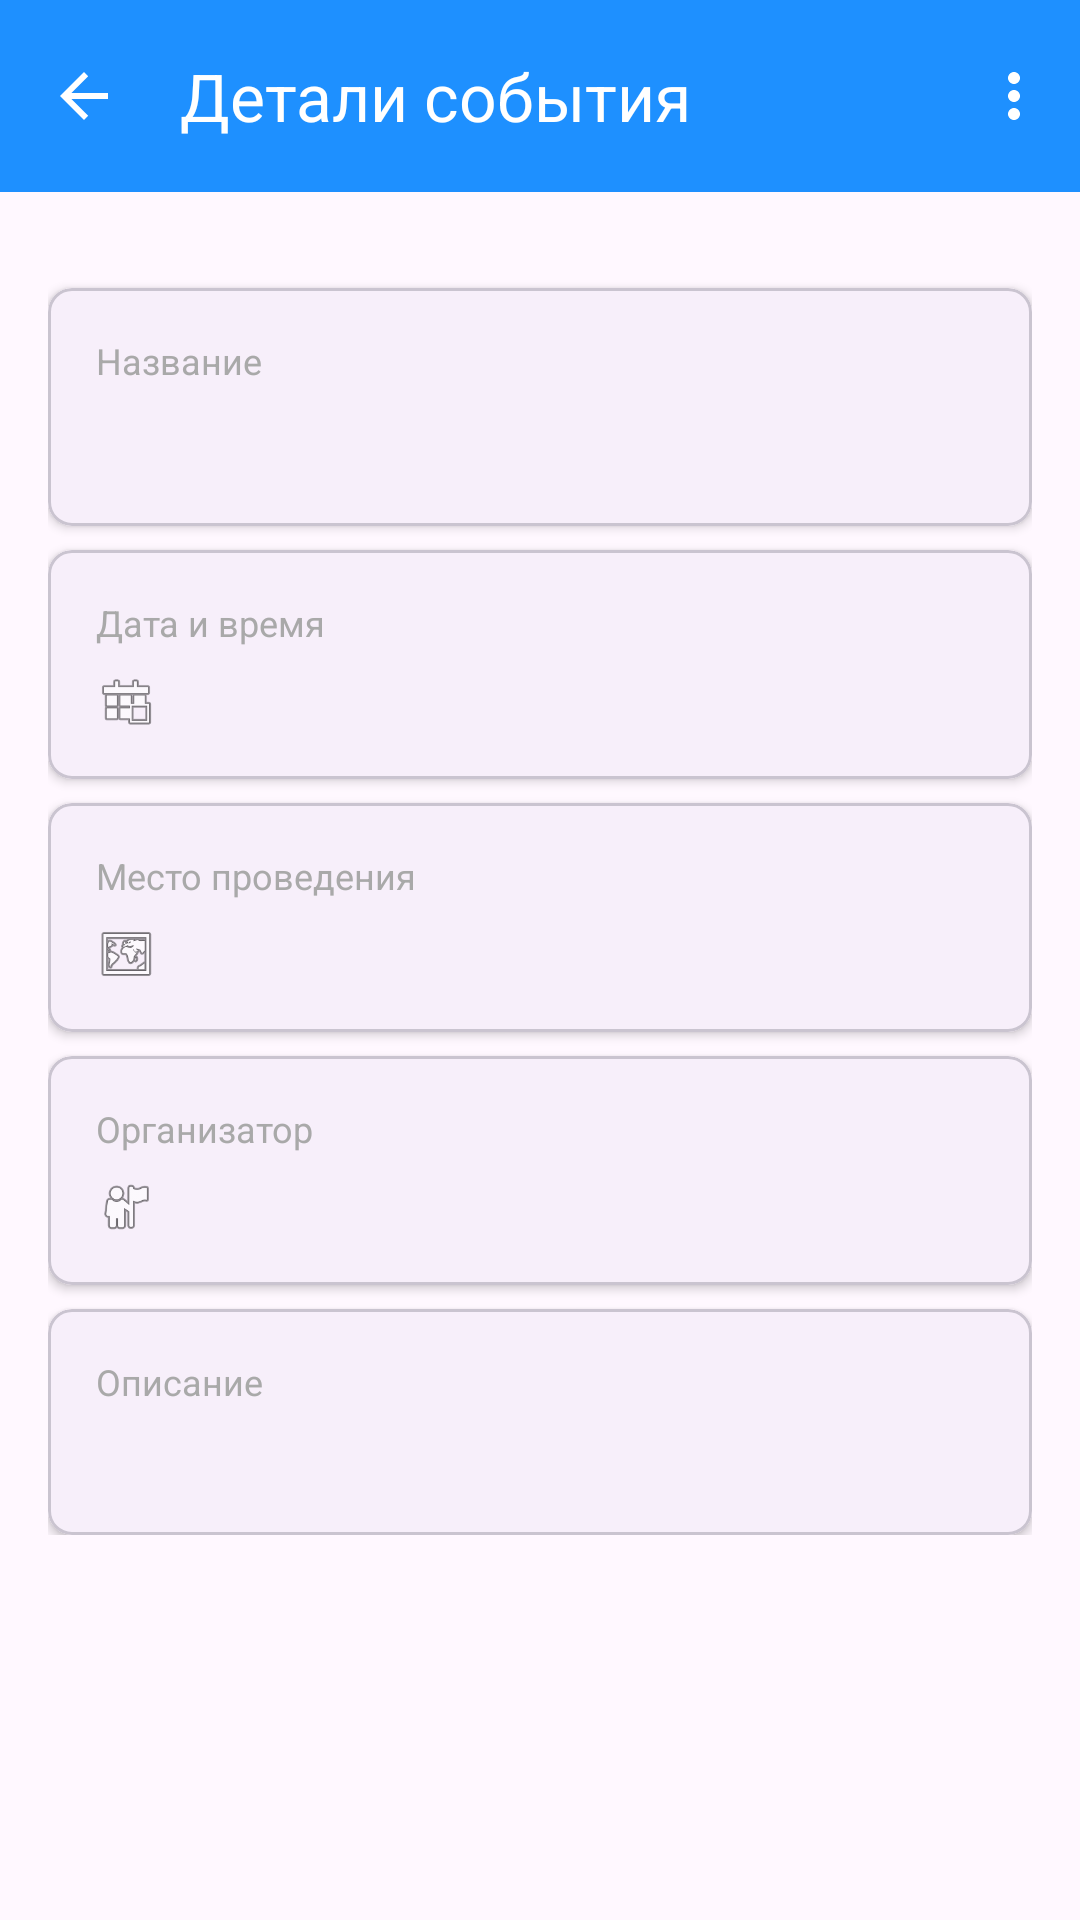

Point at icon controls on the screen. Image size 1080*1920, points as (x,y).
mapmode: (126,954)
today: (127,702)
